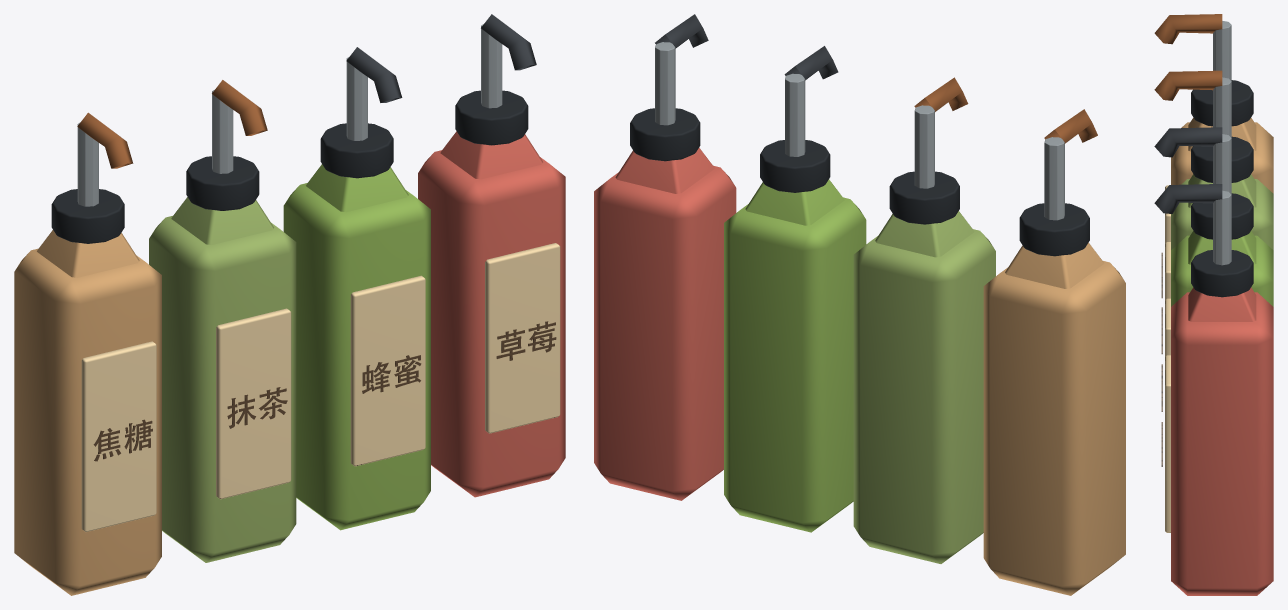
The model's file is syrup_pumps.fbx.
3 renders of one model, left to right at view 1: azimuth 30°, elevation 25°; view 2: azimuth 150°, elevation 25°; view 3: azimuth 270°, elevation 25°, orthographic. The views are drawn at different scales.
Visible parts, largest first — view 1: syrup_pumps; view 2: syrup_pumps; view 3: syrup_pumps.
Boxes of the visible parts, left/top/right/bottom form: syrup_pumps: left=14, top=14, right=565, bottom=595; syrup_pumps: left=594, top=14, right=1125, bottom=595; syrup_pumps: left=1154, top=14, right=1273, bottom=595.
Size of the model in its own units: 0.372 by 0.32 by 0.0872.
